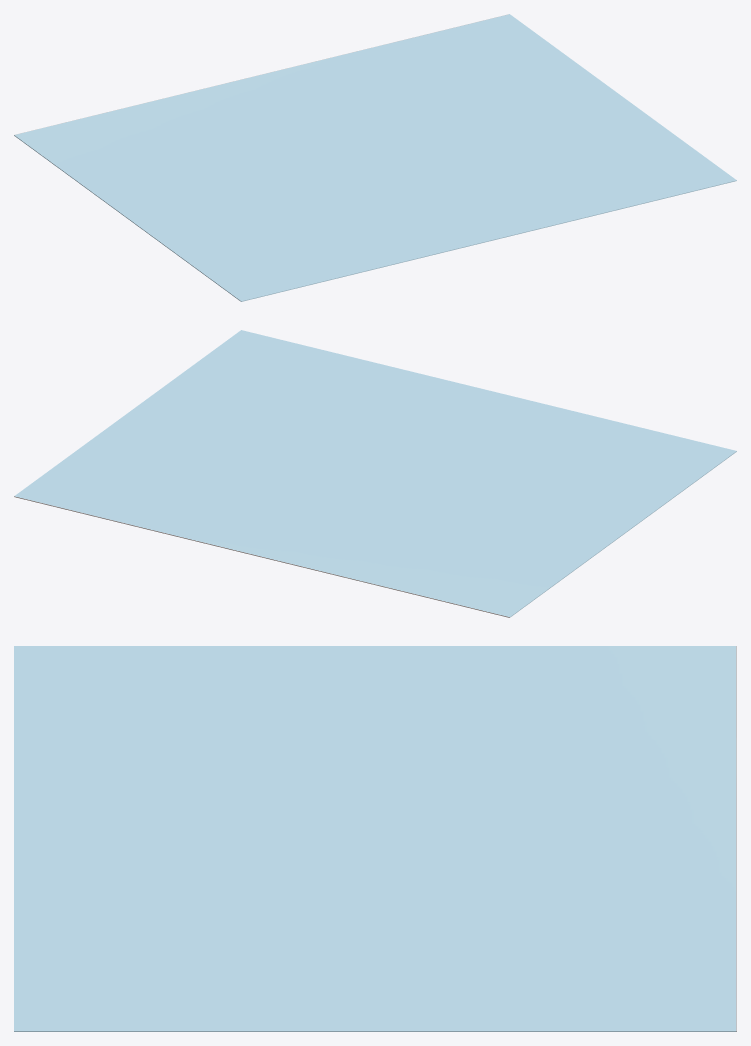
The model's file is Level 12.fbx.
The picture shows the model from 3 angles, top to bottom: view 1: azimuth 30°, elevation 25°; view 2: azimuth 150°, elevation 25°; view 3: azimuth 270°, elevation 25°; orthographic projection. The views are drawn at different scales.
Visible parts, largest first — view 1: cloud; view 2: cloud; view 3: cloud.
Boxes of the visible parts, box(x1,y1,x2,y2) form: cloud: box(14, 14, 736, 301); cloud: box(14, 330, 736, 617); cloud: box(14, 646, 736, 1031).
Size of what is drawn, in the model's own units: 816 by 1 by 648.
Materials: 1 (1 with a texture image).
